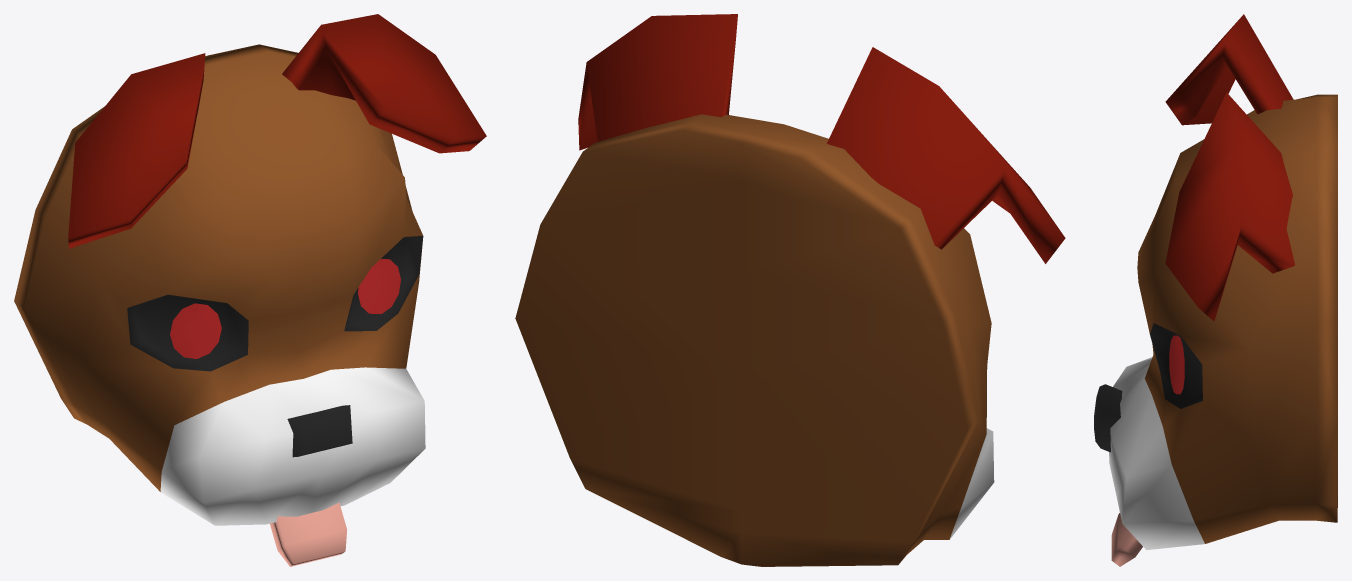
File: dog(3).fbx
3 views of the same model, side by side, from view 1: azimuth 30°, elevation 25°; view 2: azimuth 150°, elevation 25°; view 3: azimuth 270°, elevation 25° (orthographic). The views are drawn at different scales.
Parts seen in each view (by area): view 1: dog; view 2: dog; view 3: dog.
Boxes of the visible parts, box(x1,y1,x2,y2) form: dog: box(14, 14, 486, 566); dog: box(515, 14, 1065, 566); dog: box(1094, 14, 1337, 566).
Bounding box in the file's own units: 35.33 × 38.97 × 17.56.
